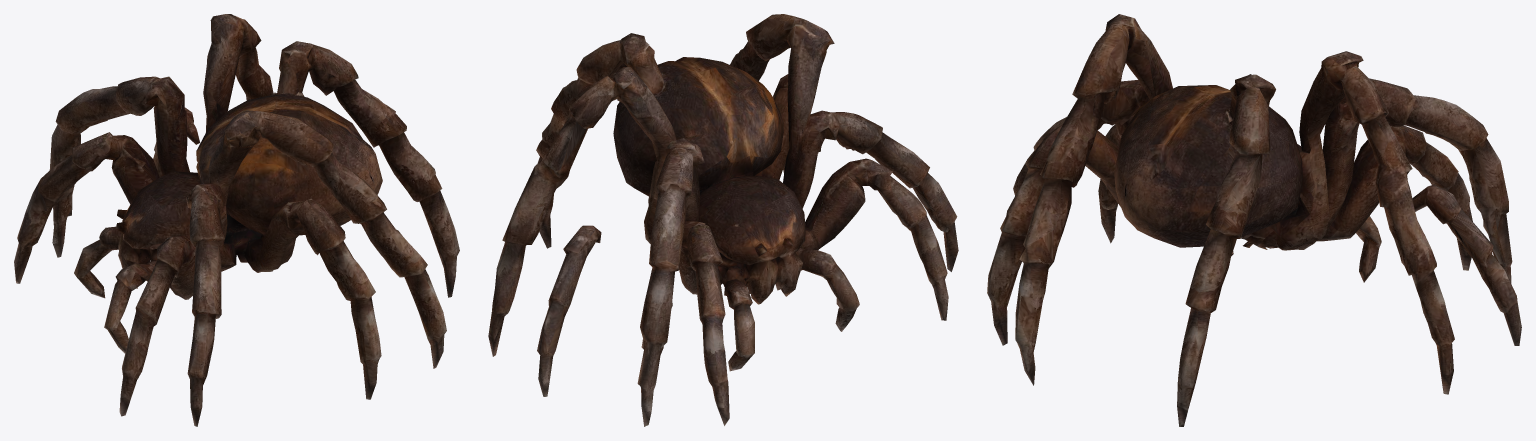
The model's file is spider.glb.
The picture shows the model from 3 angles, left to right: view 1: azimuth 30°, elevation 25°; view 2: azimuth 150°, elevation 25°; view 3: azimuth 270°, elevation 25°; orthographic projection. The views are drawn at different scales.
Visible parts, largest first — view 1: spider; view 2: spider; view 3: spider.
Boxes of the visible parts, x1,y1,x2,y2 form: spider: (14,14,459,426); spider: (488,14,958,426); spider: (987,14,1521,426).
Bounding box in the file's own units: 0.6735 × 0.4731 × 0.7559.
Materials: 1 (1 with a texture image).
